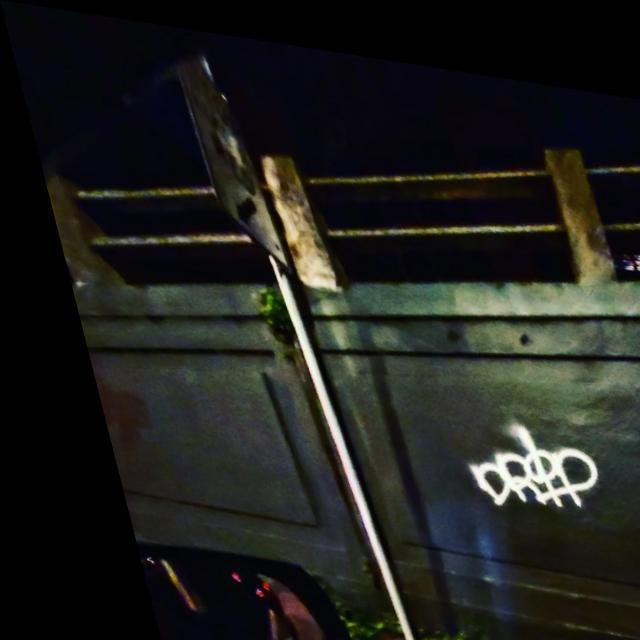-: (421, 403, 594, 512)
